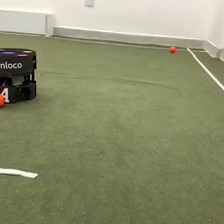ball: (169, 46, 176, 54)
goal: (1, 9, 55, 38)
robot: (1, 45, 38, 105)
